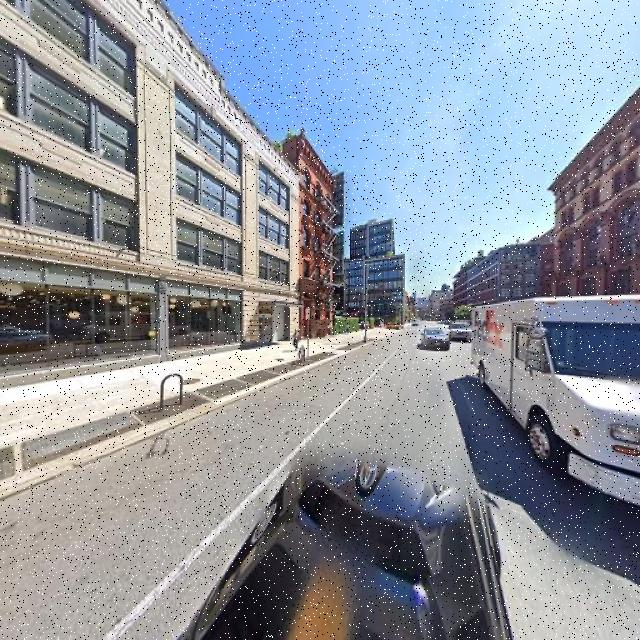Building: (1, 1, 298, 390), (557, 92, 640, 347), (300, 132, 333, 340)
